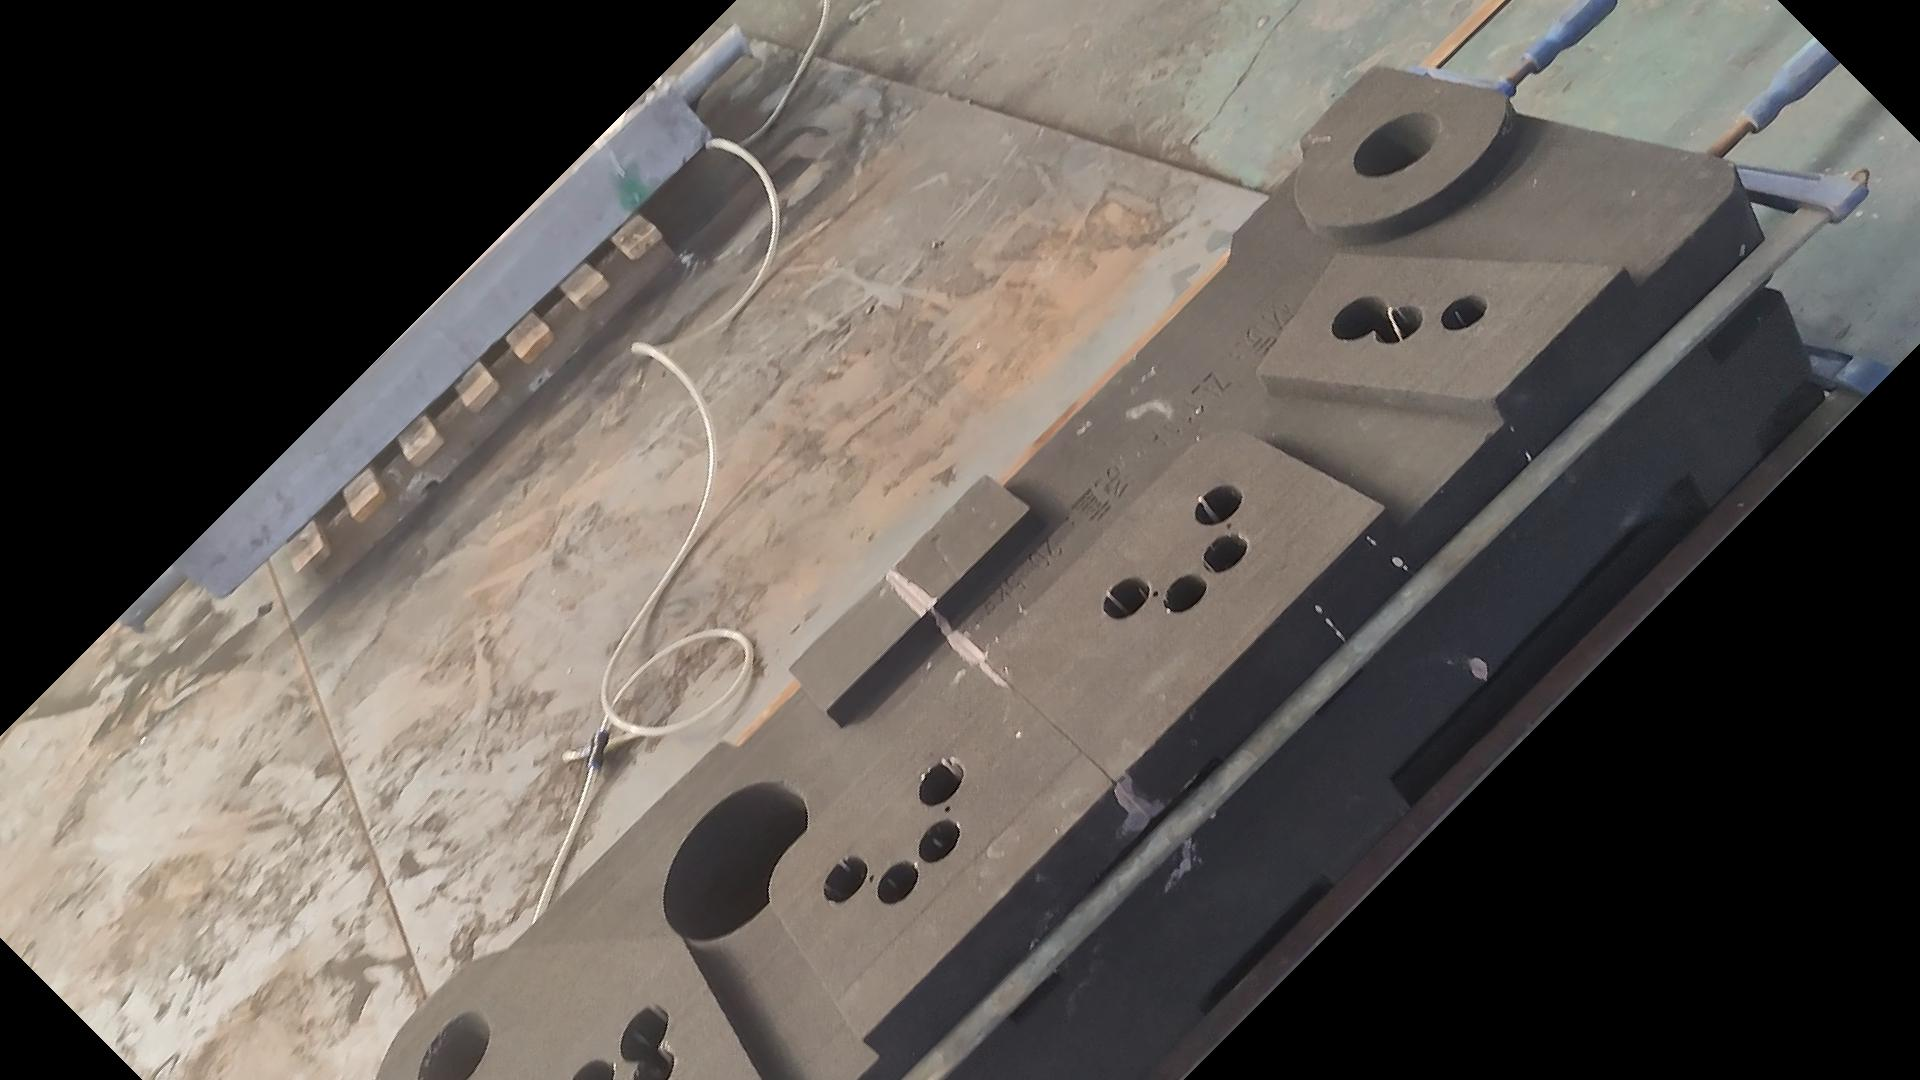pouring hole: (1353, 111, 1445, 178), (415, 1011, 491, 1080)
